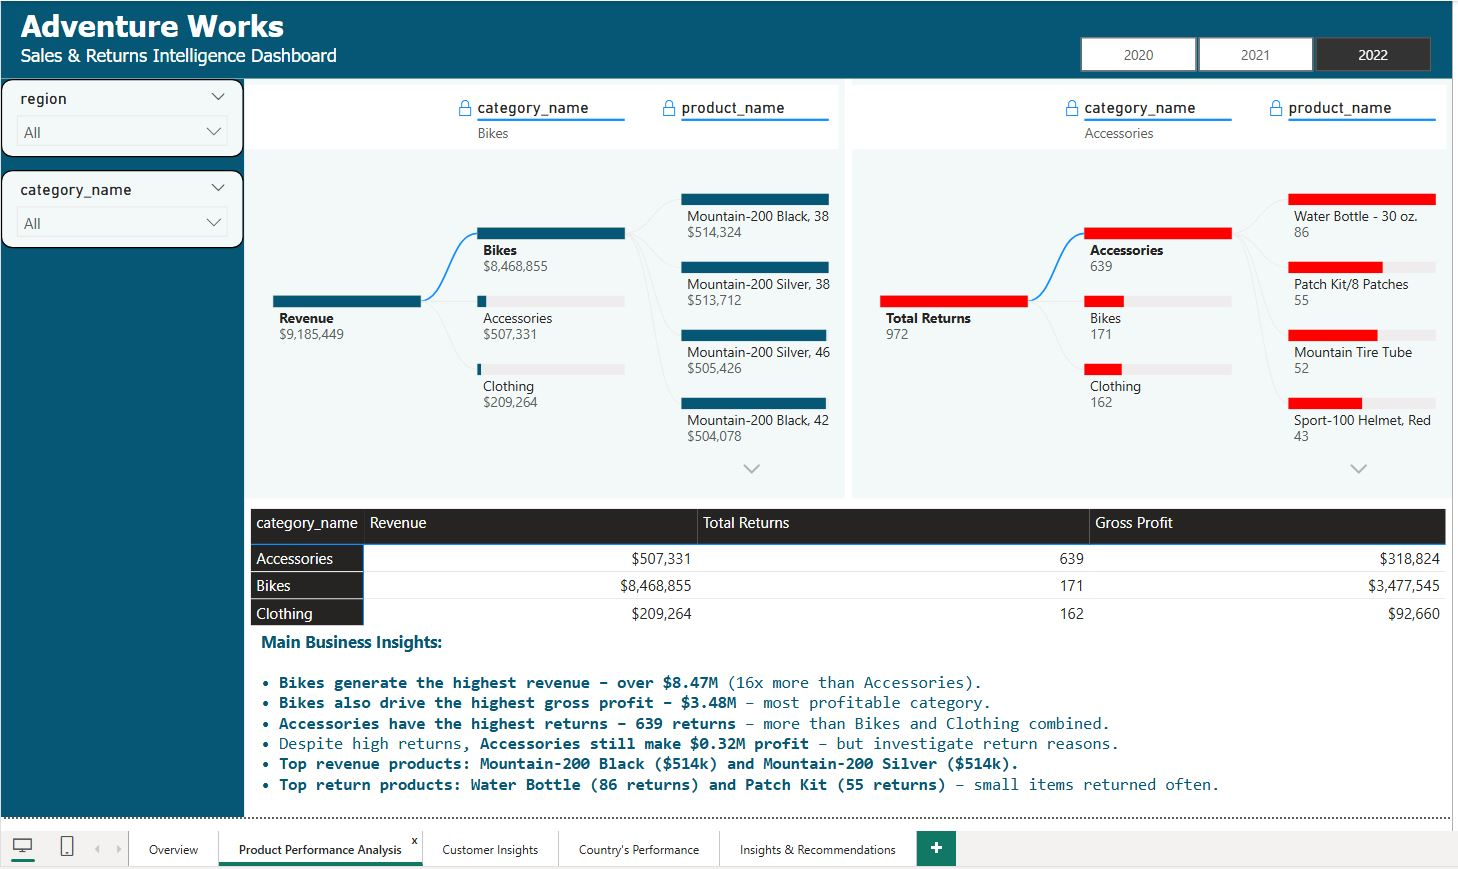

The dashboard page shown, as its layout file describes it:
{"tool":"powerbi","page":{"name":"Product Performance Analysis","canvas":[1280,720],"ordinal":1},"visuals":[{"type":"shape","box":[0,0,1280,68.5],"z":0},{"type":"textbox","box":[12.1,0,420.3,64.5],"z":1000},{"type":"shape","box":[0,68.5,214.7,651.1],"z":2000},{"type":"slicer","fields":{"Values":["dim_product_categories.category_name"]},"box":[0,148.9,214.4,68.9],"z":3000},{"type":"slicer","fields":{"Values":["dim_territory.region"]},"box":[0,68.9,214.4,68.9],"z":4000},{"type":"slicer","fields":{"Values":["calendar.Year"]},"box":[931.3,30.2,348.7,34.3],"z":5000},{"type":"decompositionTreeVisual","fields":{"Analyze":["#measures.Revenue"],"ExplainBy":["dim_product_categories.category_name","dim_product_clean.product_name"]},"box":[215.5,69,528.6,370.4],"z":6000},{"type":"decompositionTreeVisual","fields":{"Analyze":["#measures.Total Returns"],"ExplainBy":["dim_product_categories.category_name","dim_product_clean.product_name"]},"box":[750.4,69,529.6,370.4],"z":7000},{"type":"pivotTable","fields":{"Rows":["dim_product_categories.category_name"],"Values":["#measures.Revenue","#measures.Total Returns","#measures.Gross Profit"]},"box":[215.5,442.6,1064.5,123.1],"z":7001},{"type":"textbox","box":[224.1,554.9,1048.9,165],"z":7002}]}

Visuals, with their boxes on the page's 1280x720 design canvas (x1, y1, x2, y2). These are canvas units, not pixel positions in the 1458x869 screenshot, which may show the page scaled, cropped or inside an application window:
shape: <box>0,0,1280,68</box>
textbox: <box>12,0,432,64</box>
shape: <box>0,68,215,720</box>
slicer - dim_product_categories.category_name: <box>0,149,214,218</box>
slicer - dim_territory.region: <box>0,69,214,138</box>
slicer - calendar.Year: <box>931,30,1280,64</box>
decompositionTreeVisual - #measures.Revenue x dim_product_categories.category_name: <box>216,69,744,439</box>
decompositionTreeVisual - #measures.Total Returns x dim_product_categories.category_name: <box>750,69,1280,439</box>
pivotTable - dim_product_categories.category_name x #measures.Revenue: <box>216,443,1280,566</box>
textbox: <box>224,555,1273,720</box>
